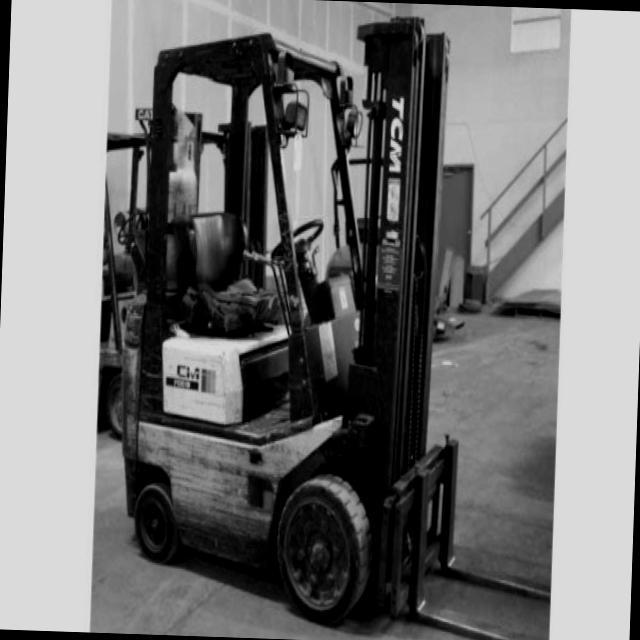forklift: (112, 1, 500, 630)
